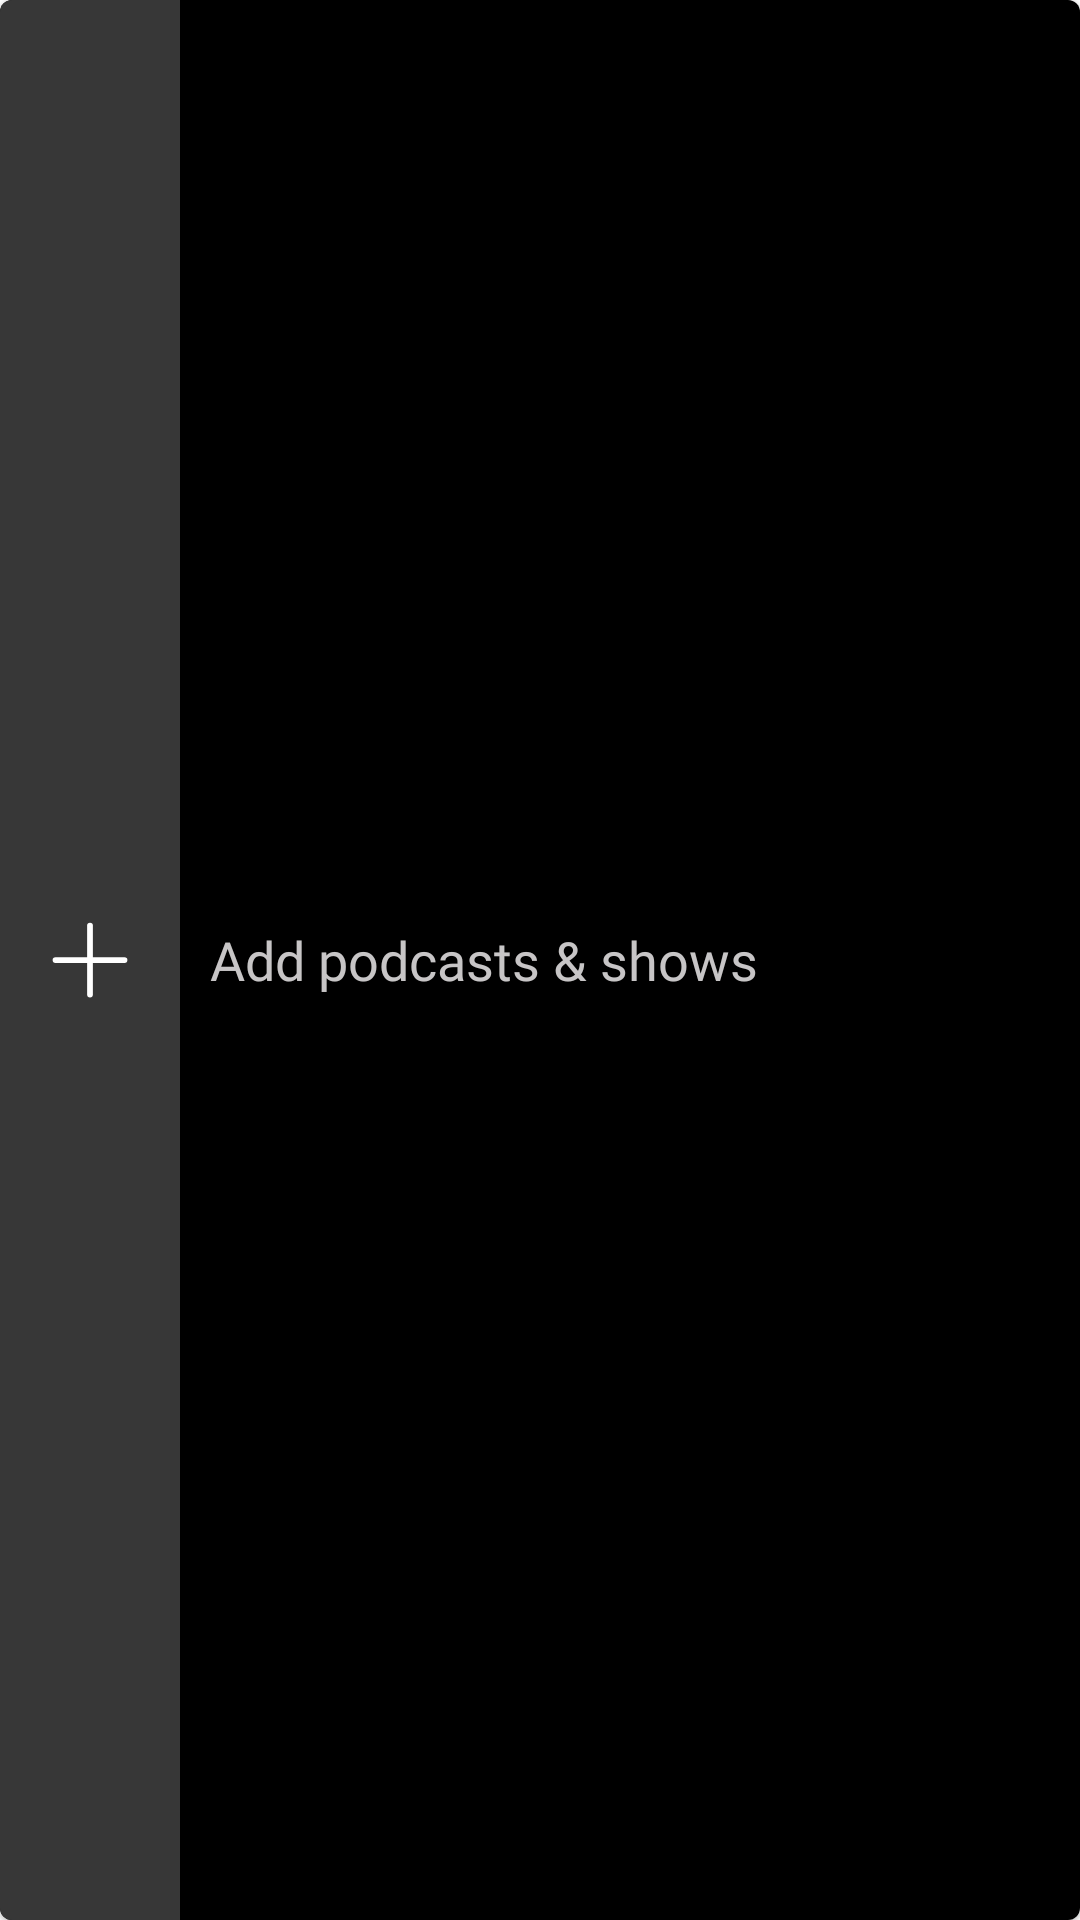

Point at icon controls on the screen. Image size 1080 x 1920, points as (x=x, y=y).
plus for add: (x=90, y=960)
